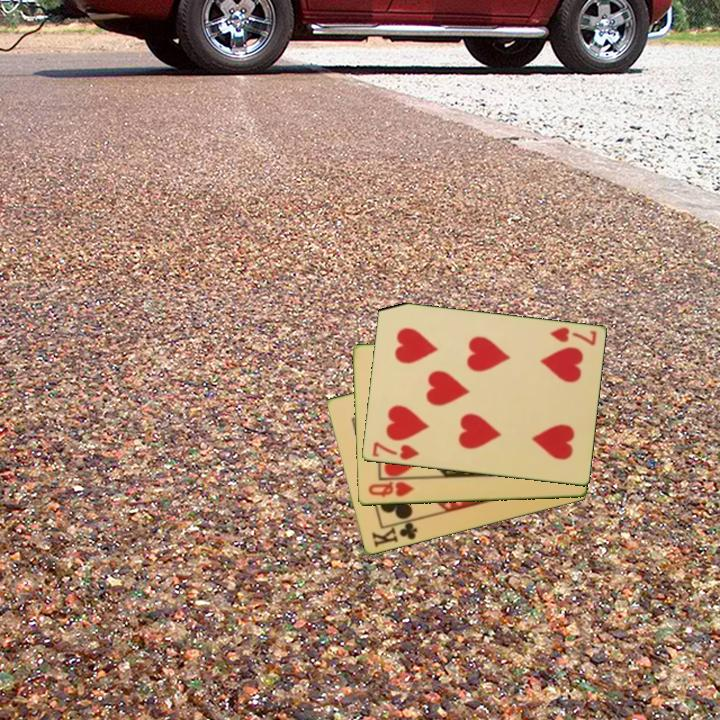7h: (369, 438, 422, 463), (546, 324, 599, 349)
Kc: (368, 516, 420, 550)
Qh: (365, 478, 416, 500)
